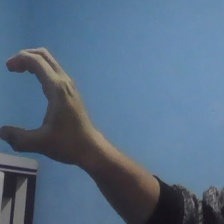C: (1, 43, 91, 166)
